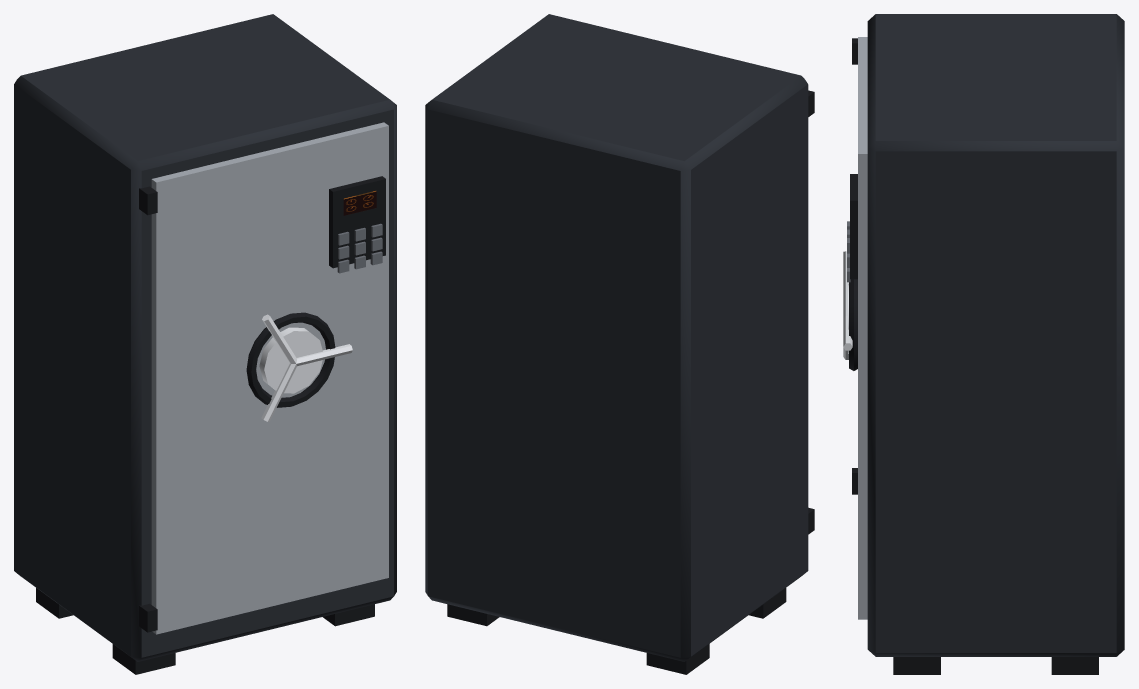
File: weaponrack_gun_safe.glb
3 views of the same model, side by side, from view 1: azimuth 30°, elevation 25°; view 2: azimuth 150°, elevation 25°; view 3: azimuth 270°, elevation 25° (orthographic). The views are drawn at different scales.
Visible parts, largest first — view 1: weaponrack_gun_safe; view 2: weaponrack_gun_safe; view 3: weaponrack_gun_safe.
Boxes of the visible parts, x1,y1,x2,y2 form: weaponrack_gun_safe: [14, 14, 396, 674]; weaponrack_gun_safe: [425, 14, 814, 674]; weaponrack_gun_safe: [843, 14, 1124, 674].
Bounding box in the file's own units: 0.8 × 1.5 × 0.712.
6 materials, 1 textured.
